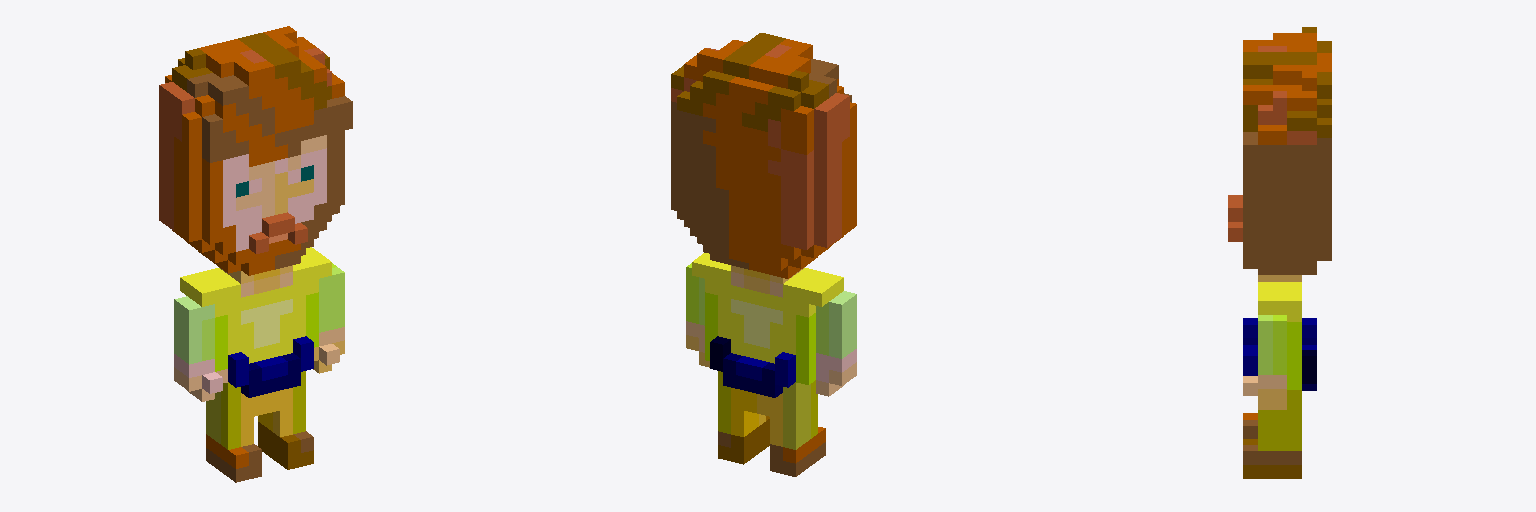
3 renders of one model, left to right at view 1: azimuth 30°, elevation 25°; view 2: azimuth 150°, elevation 25°; view 3: azimuth 270°, elevation 25°, orthographic.
Size of the model in its own units: 12 by 30 by 7.
1 materials, 1 textured.